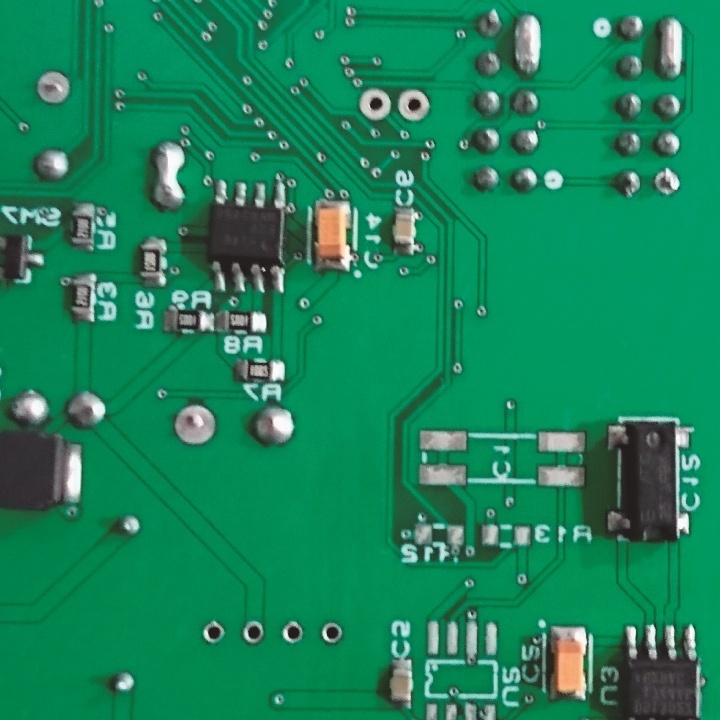F: (172, 400, 218, 449), (394, 89, 434, 126), (355, 84, 392, 124), (33, 68, 72, 104), (653, 165, 684, 199), (241, 618, 267, 648), (201, 618, 226, 645), (320, 621, 345, 648), (282, 617, 304, 646)
P: (149, 136, 189, 212), (512, 12, 547, 80), (656, 14, 687, 78)
